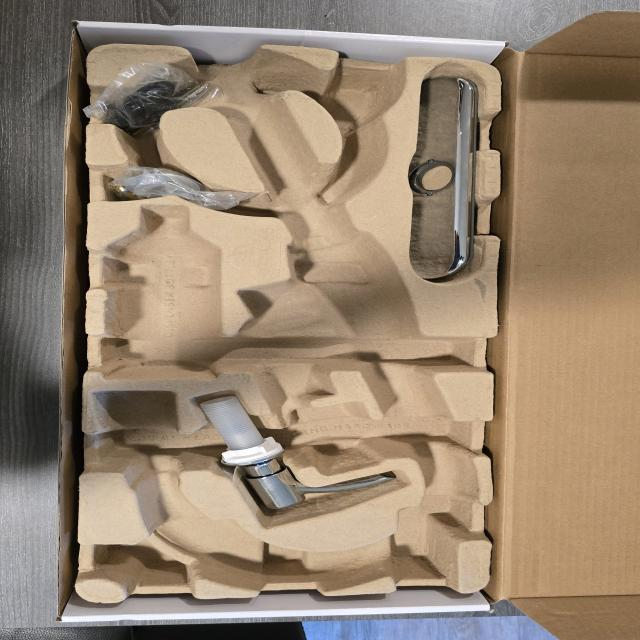1m: (99, 44, 476, 591)
2: (200, 396, 395, 510)
3m: (100, 203, 219, 380)
4: (407, 76, 476, 279)
5m: (322, 75, 390, 127)
6: (108, 157, 252, 211)
7: (82, 59, 218, 138)
